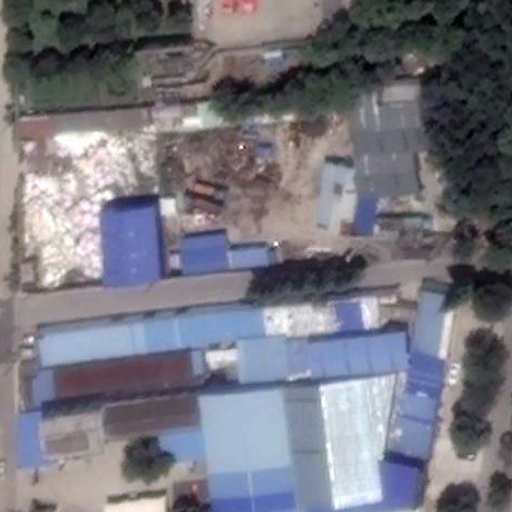msw: (24, 126, 160, 285)
